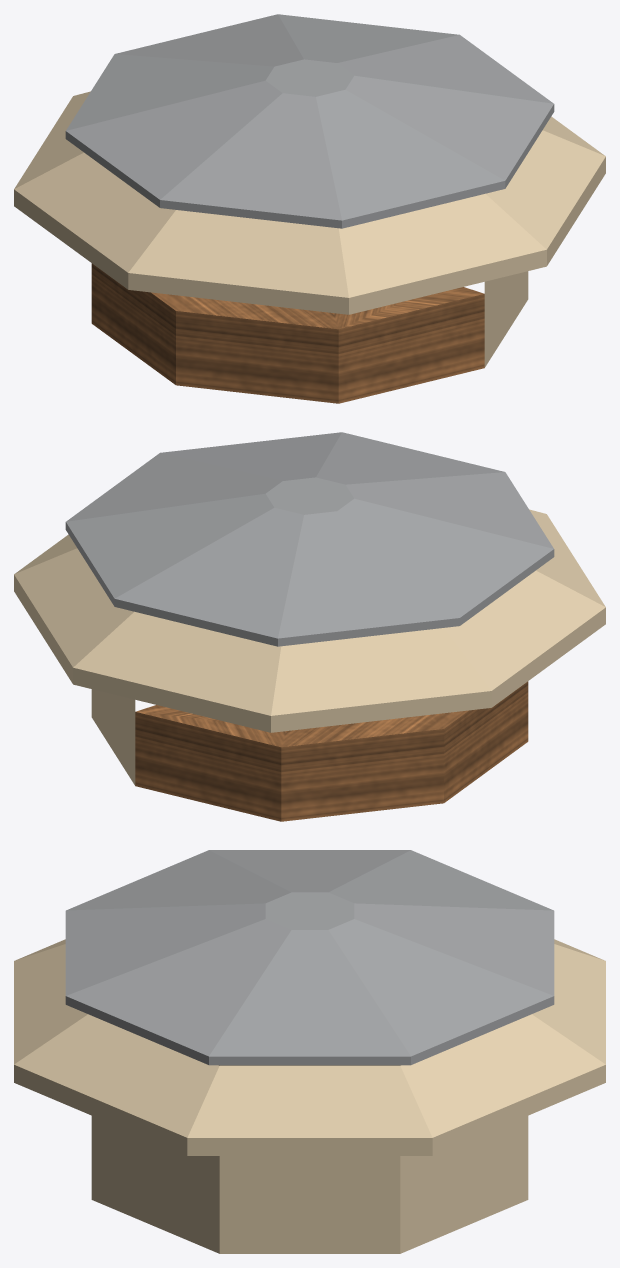
Rendered from SM_Morin_ChioscoOttagonale.fbx.
3 renders of one model, top to bottom at view 1: azimuth 30°, elevation 25°; view 2: azimuth 150°, elevation 25°; view 3: azimuth 270°, elevation 25°, orthographic. The views are drawn at different scales.
Parts seen in each view (by area): view 1: SM_Morin_ChioscoOttagonale; view 2: SM_Morin_ChioscoOttagonale; view 3: SM_Morin_ChioscoOttagonale.
Boxes of the visible parts, x1,y1,x2,y2 form: SM_Morin_ChioscoOttagonale: (14,14,605,403); SM_Morin_ChioscoOttagonale: (14,432,605,821); SM_Morin_ChioscoOttagonale: (14,850,605,1253).
Size of what is drawn, in the model's own units: 739 by 739 by 345.
Materials: 2 (2 with a texture image).
